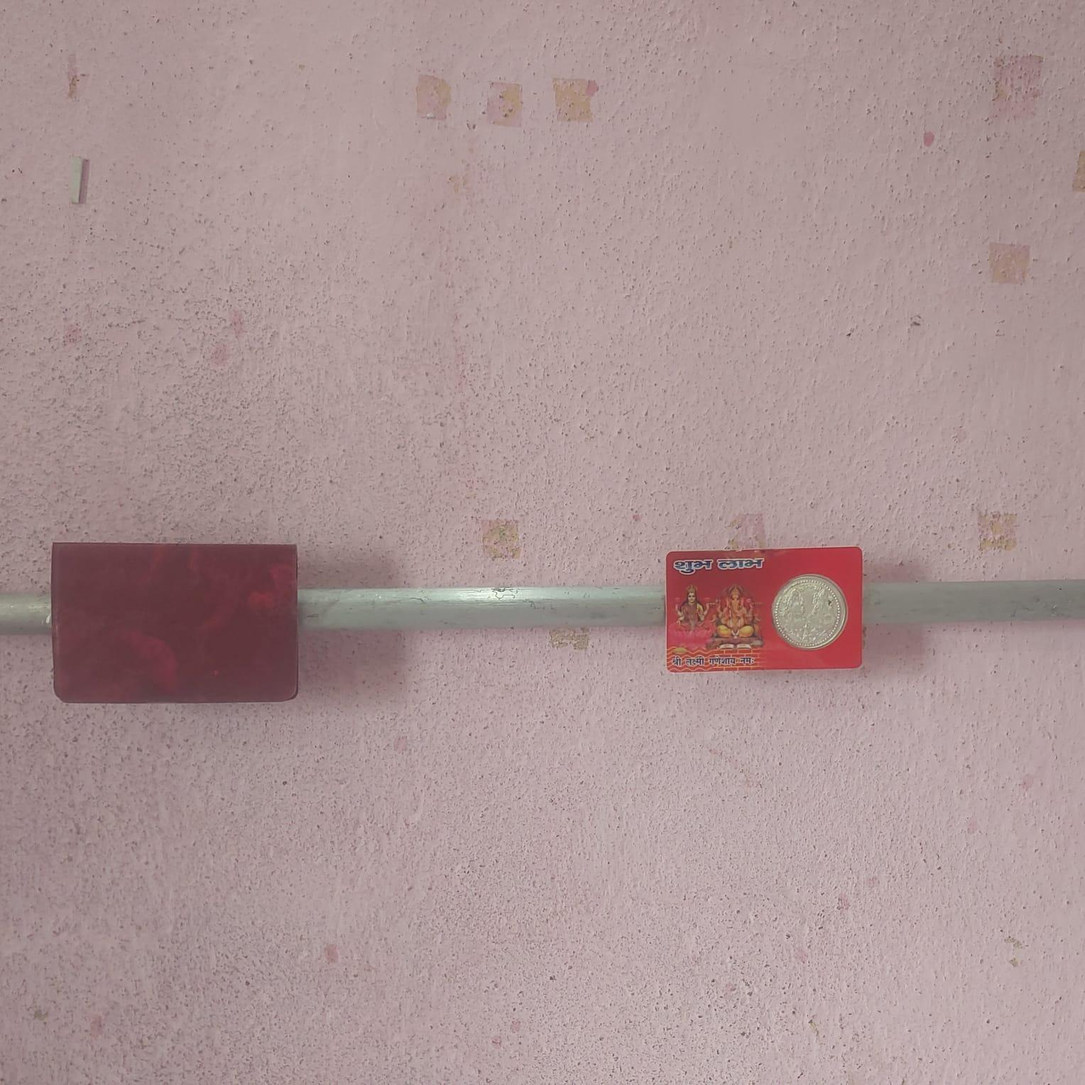blessing_card: (658, 547, 869, 673)
wallet: (46, 531, 305, 706)
